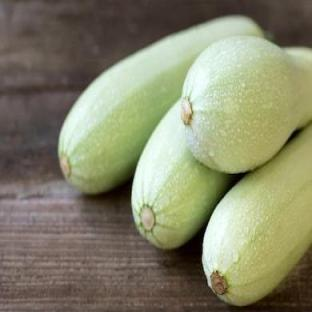Zucchini: (59, 16, 262, 193), (203, 125, 311, 305), (182, 36, 311, 172), (132, 102, 232, 249)
